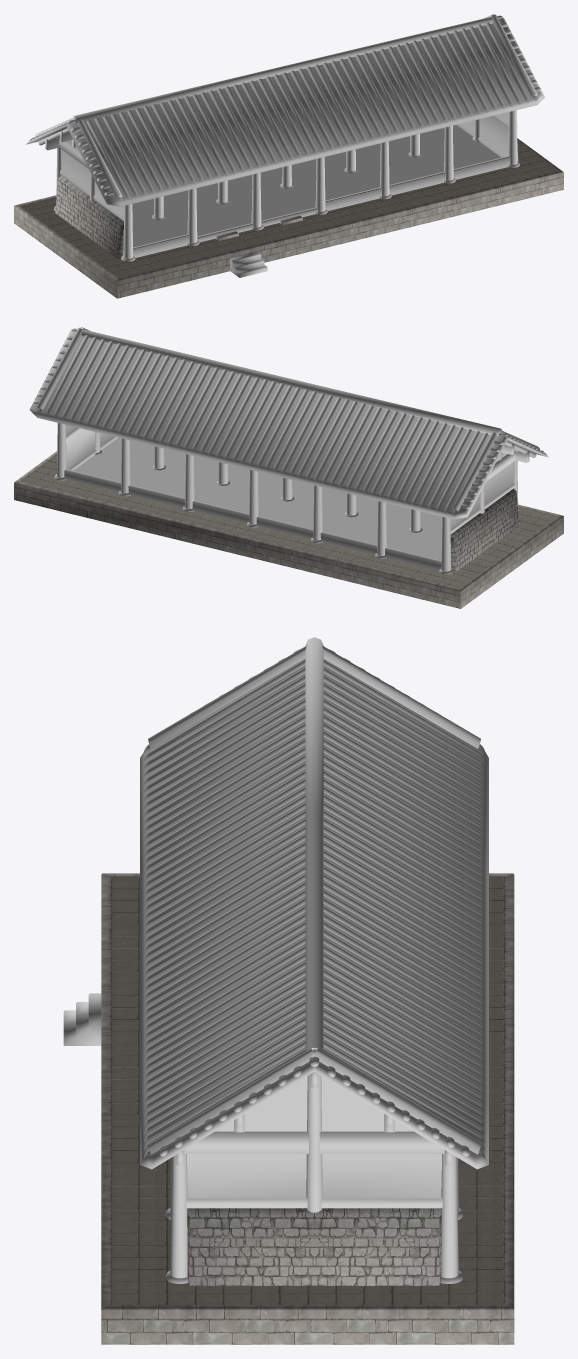
The model's file is Jongmyo_05.fbx.
3 renders of one model, top to bottom at view 1: azimuth 30°, elevation 25°; view 2: azimuth 150°, elevation 25°; view 3: azimuth 270°, elevation 25°, orthographic. The views are drawn at different scales.
Parts seen in each view (by area): view 1: Aggongcheong_Jeongjeon; view 2: Aggongcheong_Jeongjeon; view 3: Aggongcheong_Jeongjeon.
Part boxes in pixels (x1,y1,x2,y2): Aggongcheong_Jeongjeon: (14, 14, 563, 298); Aggongcheong_Jeongjeon: (14, 327, 563, 608); Aggongcheong_Jeongjeon: (63, 637, 514, 1344).
Bounding box in the file's own units: 1980 × 597 × 865.
